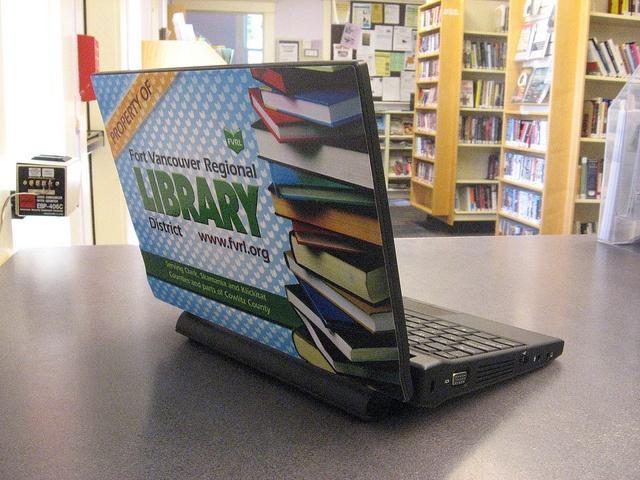Rak: (494, 0, 639, 235)
